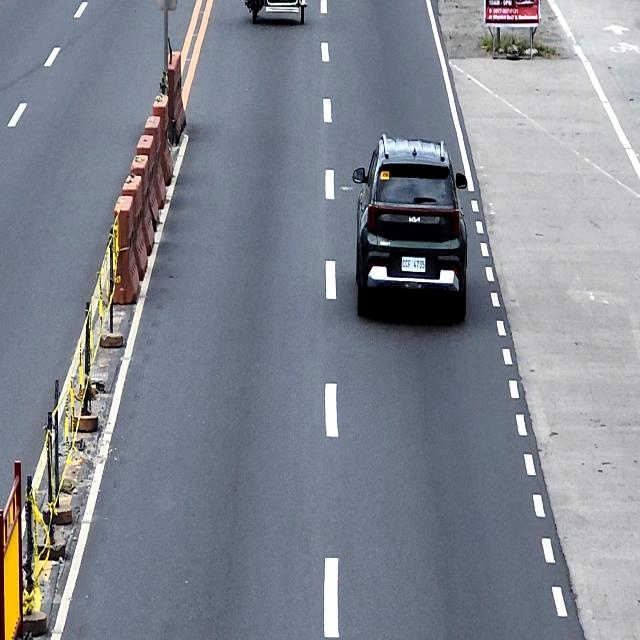Car: (354, 132, 469, 325)
License-Plate: (401, 256, 427, 274)
Tricycle: (244, 0, 308, 27)
